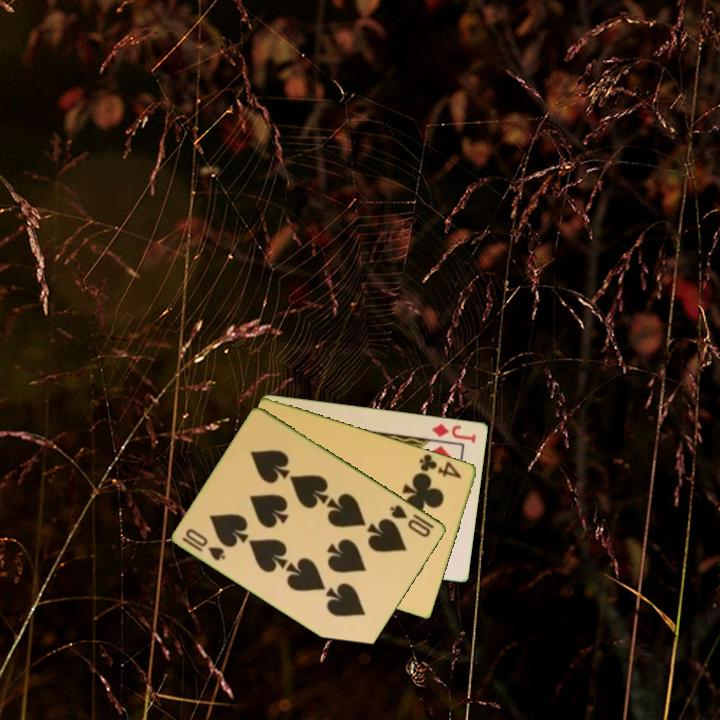10s: (179, 525, 229, 563), (386, 501, 434, 540)
4c: (416, 450, 465, 481)
Jd: (429, 420, 479, 446)
